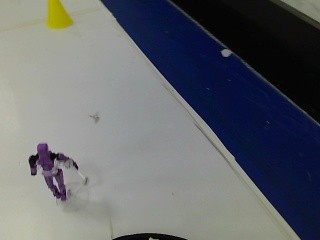cone: (42, 0, 72, 31)
pedestrian: (25, 136, 79, 207)
